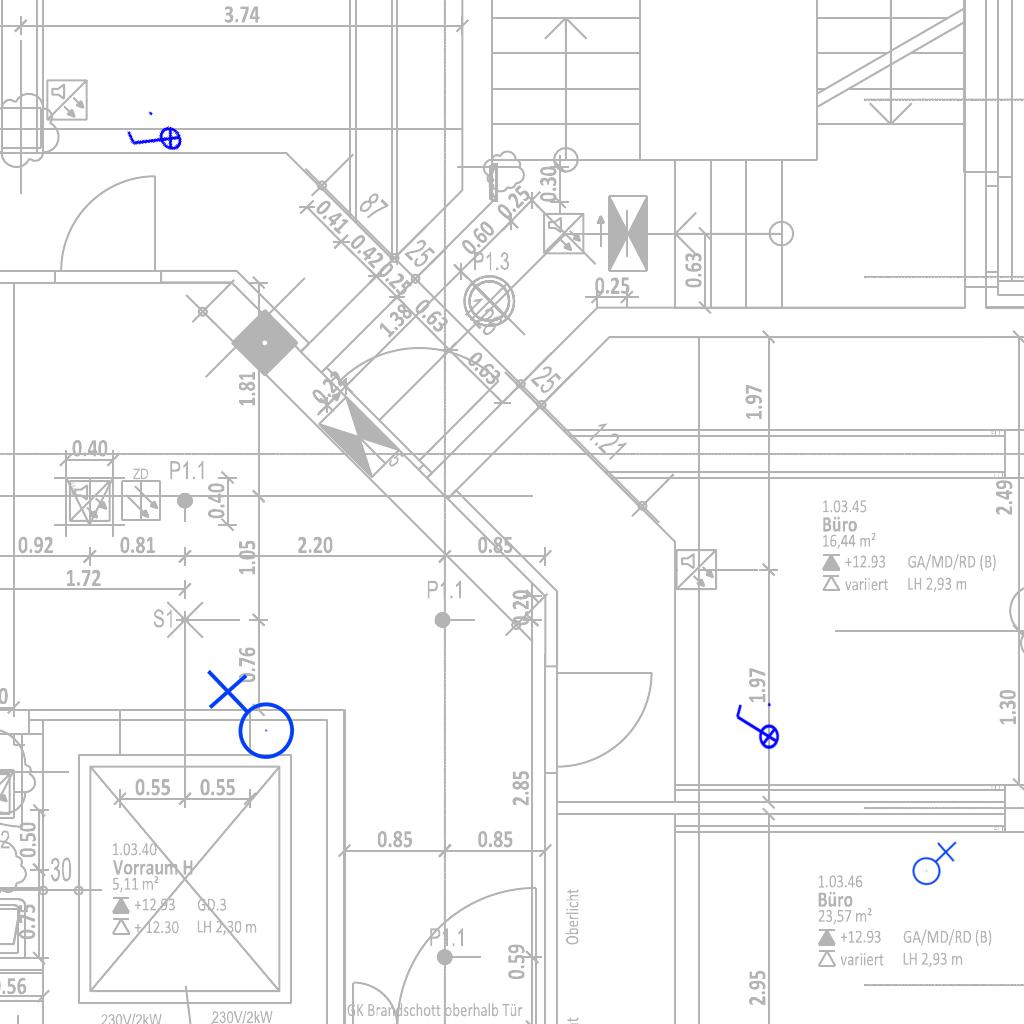Ausschalter_beleuchtet: (118, 103, 192, 177), (732, 700, 780, 756)
Elektroanschluss_allgemein_230V_Geraeteanschlussdose_230V: (202, 669, 296, 768), (908, 839, 957, 886)
